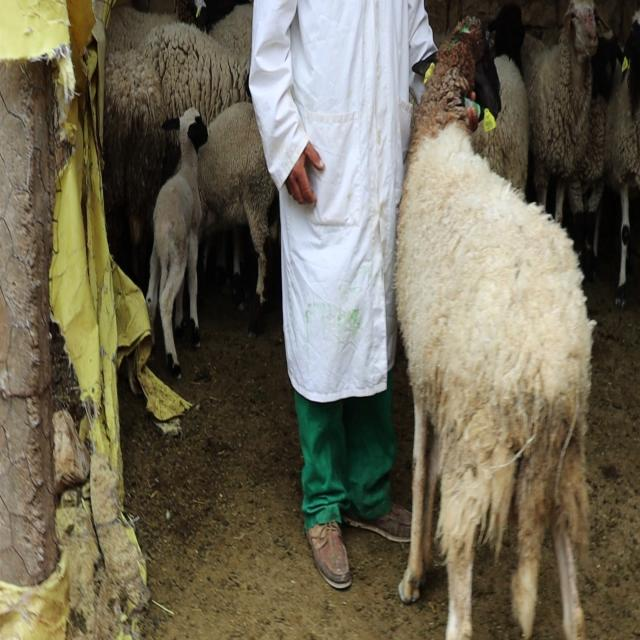Score_2: (396, 17, 595, 639)
